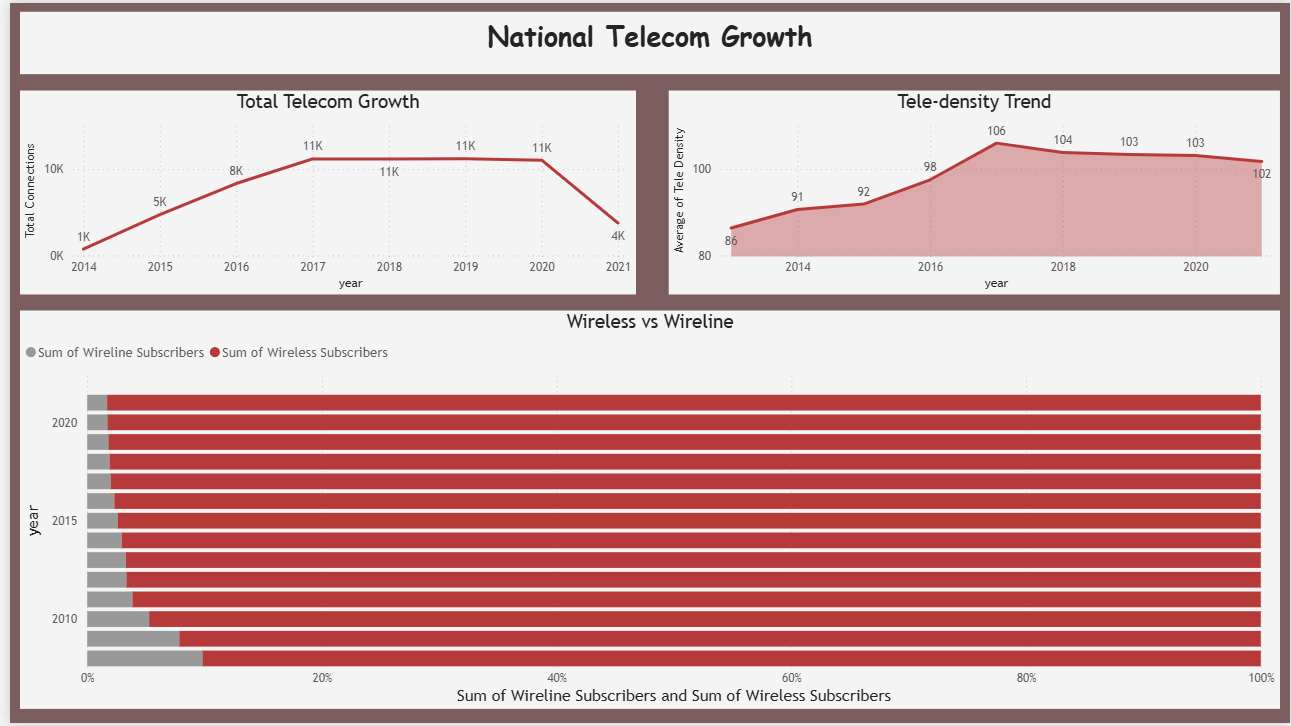

The page's visual inventory and layout, read from the dashboard file:
{"tool":"powerbi","page":{"name":"National Telecom Growth","canvas":[1280,720],"ordinal":0},"visuals":[{"type":"textbox","box":[10,8.8,1260,62.5],"z":0},{"type":"lineChart","title":"Total Telecom Growth","fields":{"Category":["telecom_dw dim_time.year"],"Y":["Sum(telecom_dw fact_telecom_infra.Total Connections)"]},"box":[10,87.5,616.2,203.8],"z":1000},{"type":"areaChart","title":"Tele-density Trend","fields":{"Category":["telecom_dw dim_time.year"],"Y":["Avg(telecom_dw fact_telecom_infra.Tele Density)"]},"box":[658.8,87.5,611.2,203.8],"z":2000},{"type":"hundredPercentStackedBarChart","title":"Wireless vs Wireline","fields":{"Category":["telecom_dw dim_time.year"],"Y":["Sum(telecom_dw fact_telecom_infra.Wireline Subscribers)","Sum(telecom_dw fact_telecom_infra.Wireless Subscribers)"]},"box":[10,307.5,1260,398.8],"z":3000}]}

Visuals, with their boxes in screenshot pixels (x1, y1, x2, y2), scaled from the page's 1280x720 canvas onto the 1291x726 screenshot:
textbox: [10, 9, 1281, 72]
"Total Telecom Growth" lineChart: [10, 88, 632, 294]
"Tele-density Trend" areaChart: [664, 88, 1281, 294]
"Wireless vs Wireline" hundredPercentStackedBarChart: [10, 310, 1281, 712]
